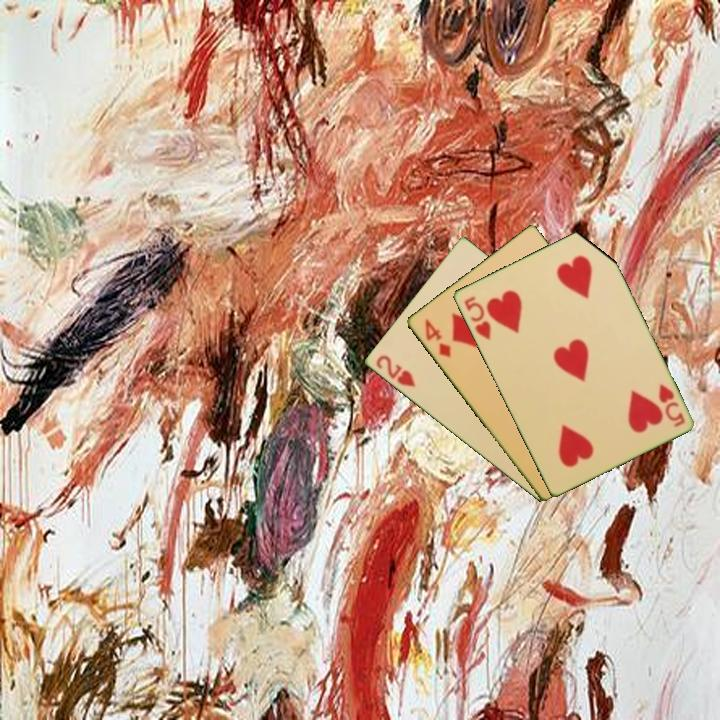2h: (372, 351, 418, 390)
4d: (421, 315, 453, 360)
5h: (460, 292, 493, 343), (655, 381, 687, 430)
